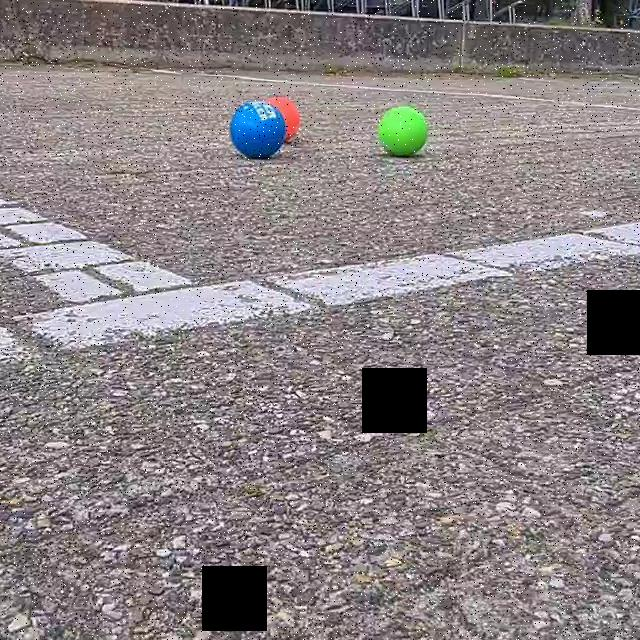ball: (230, 97, 289, 160), (378, 103, 430, 159)
